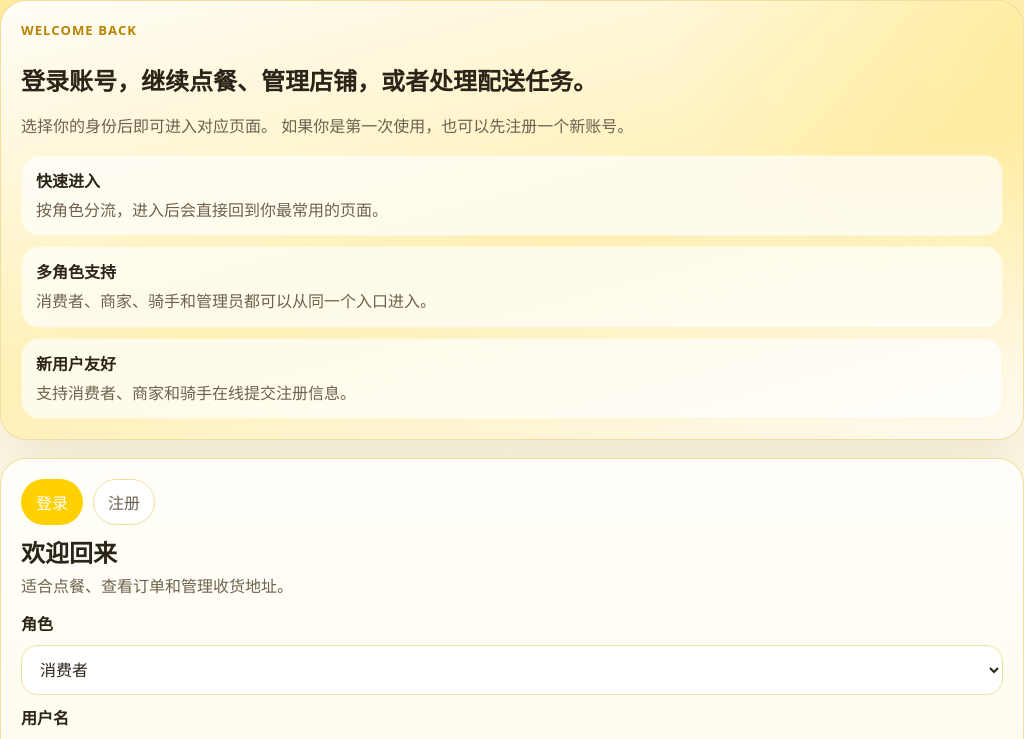
it: Login page › updates the role-specific hint when selecting merchant
Select "商家" in the dropdown labelled "角色": [512, 670] box [21,645,1003,695]
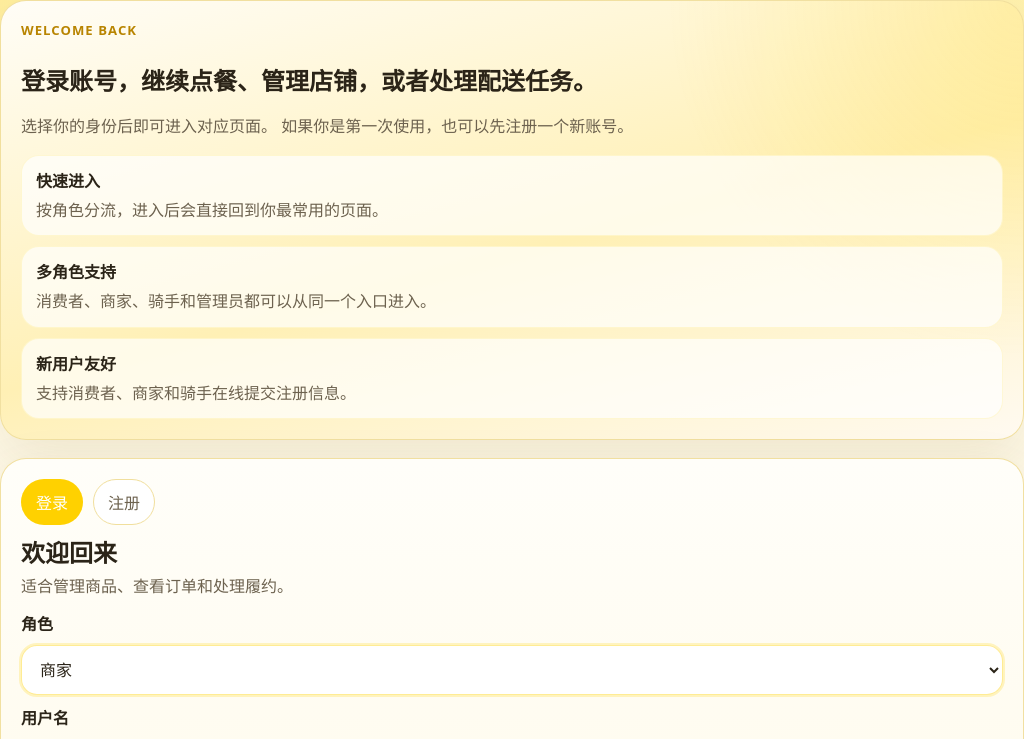
expect the text "适合管理商品、查看订单和处理履约。" is shown: met, box [21,575,293,597]
